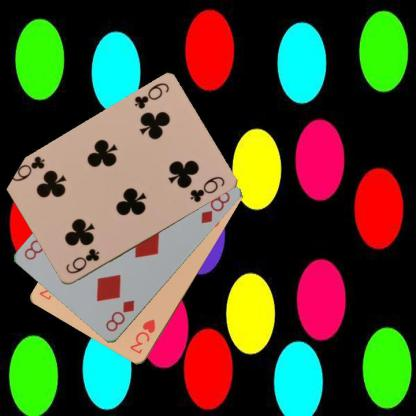3h: (127, 317, 157, 356)
6c: (131, 80, 171, 111), (63, 246, 101, 276)
8d: (103, 298, 136, 334)
